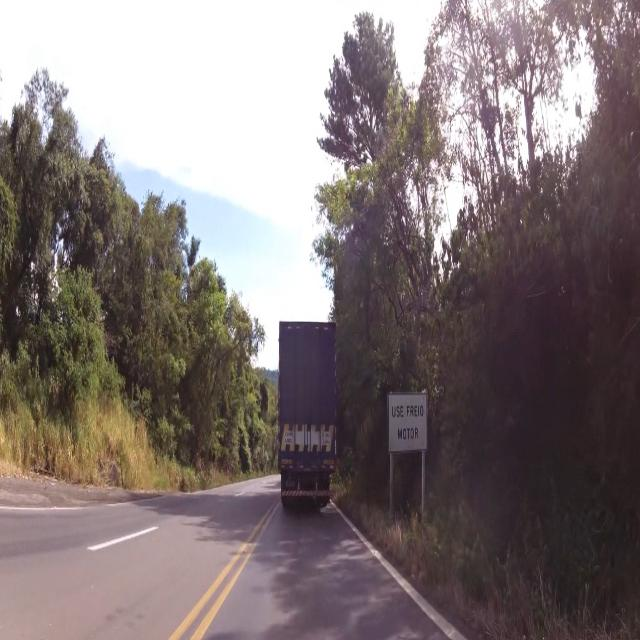E-5: (388, 392, 428, 453)
